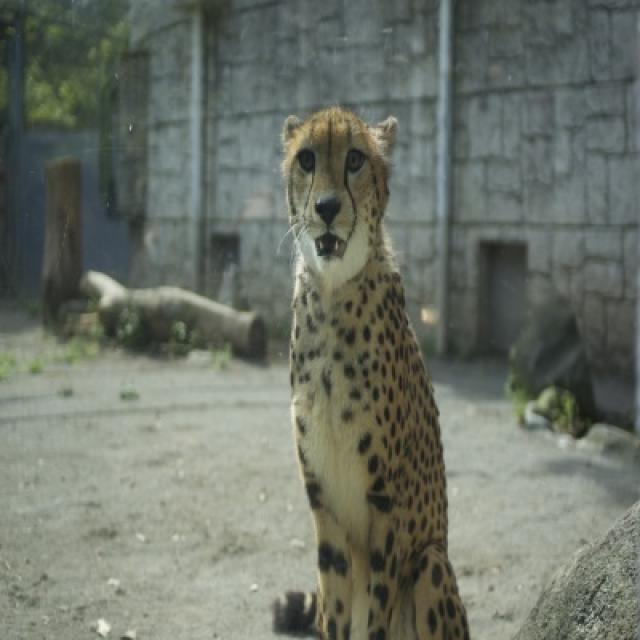Cheetah: (273, 107, 474, 636)
